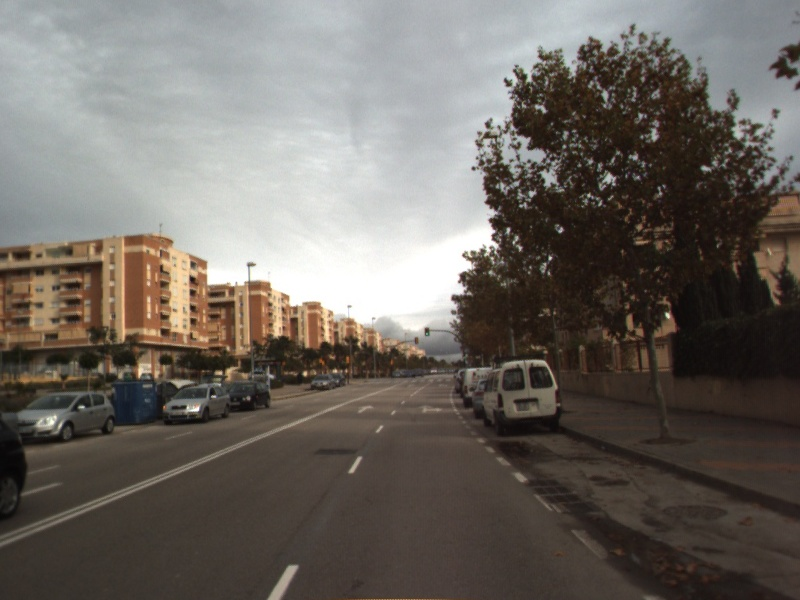STRAIGHT: (355, 403, 377, 415)
STRAIGHT_RIGHT: (417, 402, 445, 415)
